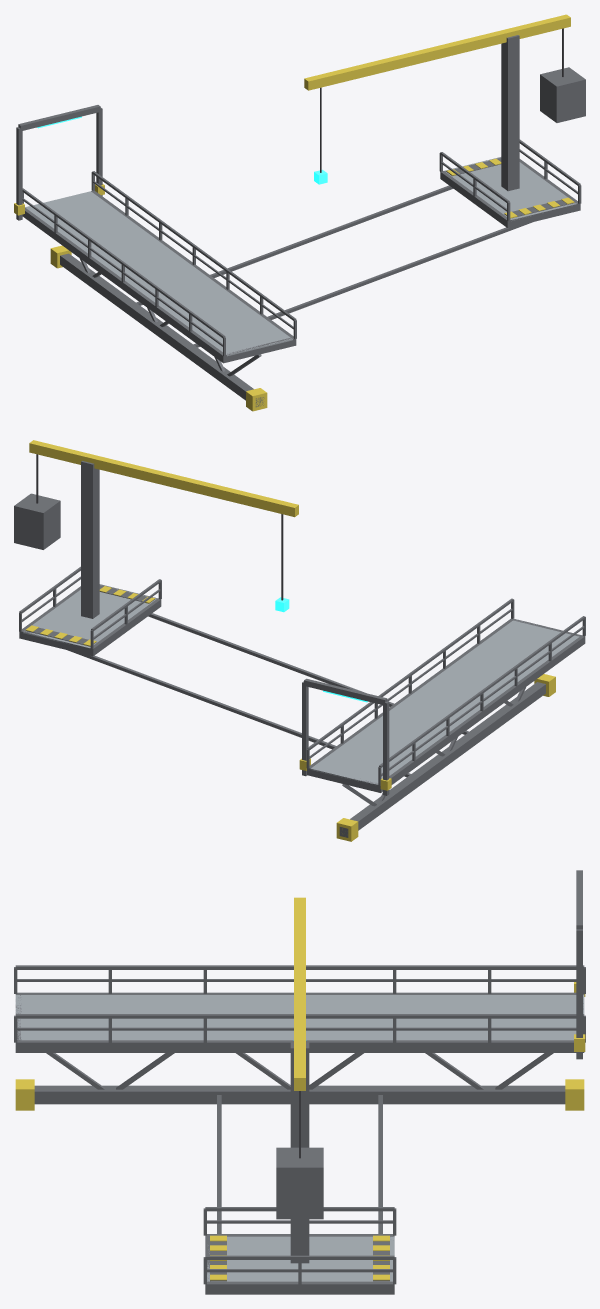
The model's file is diorama_counterweight_crane.glb.
The picture shows the model from 3 angles, top to bottom: view 1: azimuth 30°, elevation 25°; view 2: azimuth 150°, elevation 25°; view 3: azimuth 270°, elevation 25°; orthographic projection. The views are drawn at different scales.
Parts seen in each view (by area): view 1: Deck_a, Boom, Spine, Mast, Deck_station, Frame_a_-1, Dyn_Counterweight, Hanger_station_1, Hanger_station_0, Rail_a_1, Rail_a_-1, Frame_a_1 (+7 smaller); view 2: Deck_a, Boom, Spine, Mast, Deck_station, Dyn_Counterweight, Frame_a_-1, Hanger_station_0, Hanger_station_1, Rail_a_-1, Rail_a_1, Frame_a_1 (+8 smaller); view 3: Deck_a, Spine, Frame_a_1, Deck_station, Dyn_Counterweight, Rail_a_-1, Rail_a_1, Frame_station_1, Boom, Mast, MidRail_a_1, Frame_a_-1 (+10 smaller).
Part boxes in pixels (x1=…): Deck_a: x1=25, y1=191, x2=292, y2=356; Boom: x1=304, y1=14, x2=570, y2=90; Spine: x1=60, y1=253, x2=264, y2=407; Mast: x1=501, y1=35, x2=519, y2=191; Deck_station: x1=444, y1=157, x2=576, y2=221; Frame_a_-1: x1=22, y1=207, x2=226, y2=363; Dyn_Counterweight: x1=540, y1=67, x2=585, y2=122; Hanger_station_1: x1=193, y1=222, x2=531, y2=347; Hanger_station_0: x1=136, y1=185, x2=453, y2=305; Rail_a_1: x1=92, y1=171, x2=296, y2=320; Rail_a_-1: x1=22, y1=188, x2=225, y2=338; Frame_a_1: x1=92, y1=191, x2=296, y2=346; Deck_a: x1=310, y1=619, x2=579, y2=785; Boom: x1=29, y1=440, x2=298, y2=517; Spine: x1=339, y1=682, x2=545, y2=837; Mast: x1=81, y1=461, x2=99, y2=618; Deck_station: x1=23, y1=584, x2=156, y2=647; Dyn_Counterweight: x1=14, y1=493, x2=60, y2=549; Frame_a_-1: x1=377, y1=635, x2=584, y2=792; Hanger_station_0: x1=68, y1=650, x2=410, y2=777; Hanger_station_1: x1=148, y1=613, x2=468, y2=734; Rail_a_-1: x1=379, y1=616, x2=585, y2=767; Rail_a_1: x1=307, y1=598, x2=513, y2=750; Frame_a_1: x1=307, y1=618, x2=513, y2=775; Deck_a: x1=15, y1=995, x2=584, y2=1040; Spine: x1=34, y1=1085, x2=565, y2=1104; Frame_a_1: x1=15, y1=1040, x2=576, y2=1052; Deck_station: x1=207, y1=1236, x2=394, y2=1281; Dyn_Counterweight: x1=276, y1=1147, x2=323, y2=1219; Rail_a_-1: x1=15, y1=965, x2=584, y2=969; Rail_a_1: x1=15, y1=1014, x2=584, y2=1018; Frame_station_1: x1=205, y1=1281, x2=394, y2=1294; Boom: x1=294, y1=897, x2=305, y2=1090; Mast: x1=290, y1=1040, x2=309, y2=1263; MidRail_a_1: x1=17, y1=1027, x2=576, y2=1030; Frame_a_-1: x1=16, y1=992, x2=584, y2=994.
Size of the model in its own units: 15.85 by 7.2 by 12.07.
